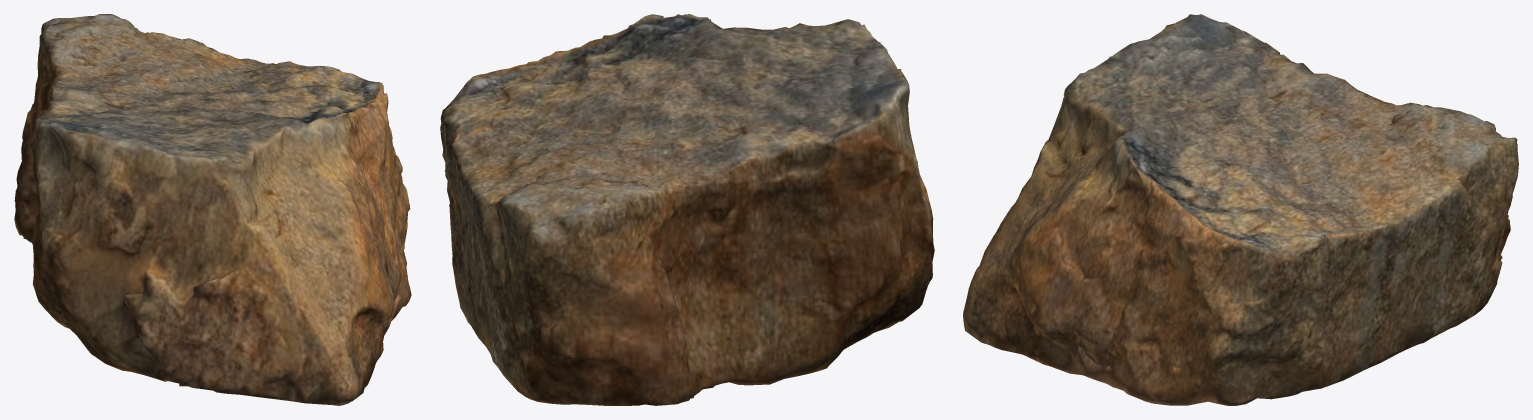
Rendered from boulder_03.glb.
The picture shows the model from 3 angles, left to right: view 1: azimuth 30°, elevation 25°; view 2: azimuth 150°, elevation 25°; view 3: azimuth 270°, elevation 25°; orthographic projection. The views are drawn at different scales.
Parts seen in each view (by area): view 1: boulder_03_LOD0; view 2: boulder_03_LOD0; view 3: boulder_03_LOD0.
Part boxes in pixels (x1,y1,x2,y2): boulder_03_LOD0: (14, 14, 411, 405); boulder_03_LOD0: (440, 14, 934, 405); boulder_03_LOD0: (963, 14, 1518, 405).
Bounding box in the file's own units: 2.4 × 1.47 × 3.06.
1 material, 1 textured.
